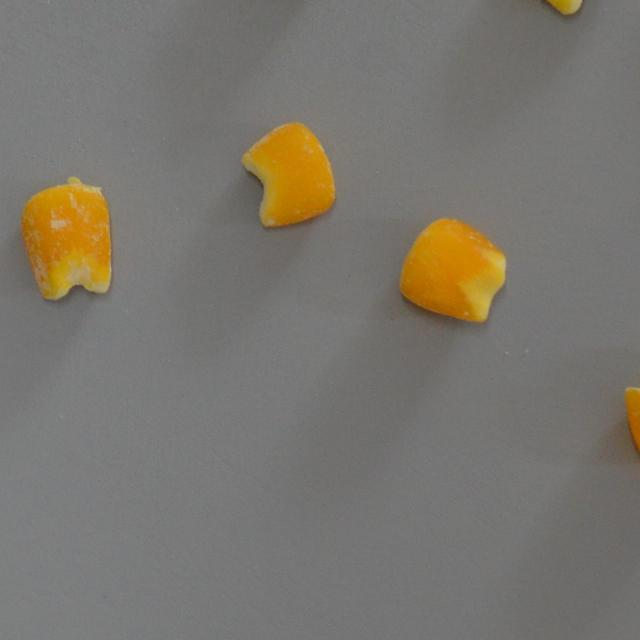no_canjicado: (513, 0, 632, 17)
pelicula: (398, 216, 506, 322), (20, 182, 114, 300), (239, 120, 336, 228), (623, 344, 640, 468)
